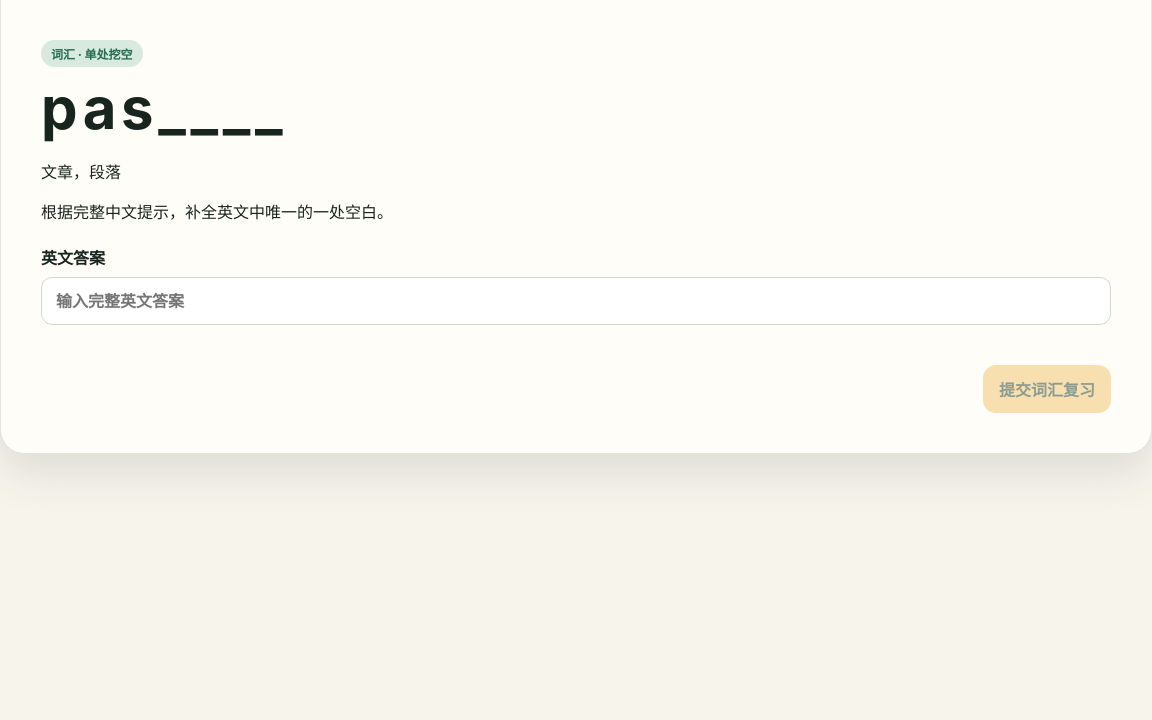
Test: VocabularyRecallExercise › keeps the only requested answer when persistence fails so the learner can retry
This screenshot has width=1152, height=720.
Later steps or results of the test are not shown.
Type "passage" into the field labelled "英文答案" at (576, 301), box [41,277,1111,325]
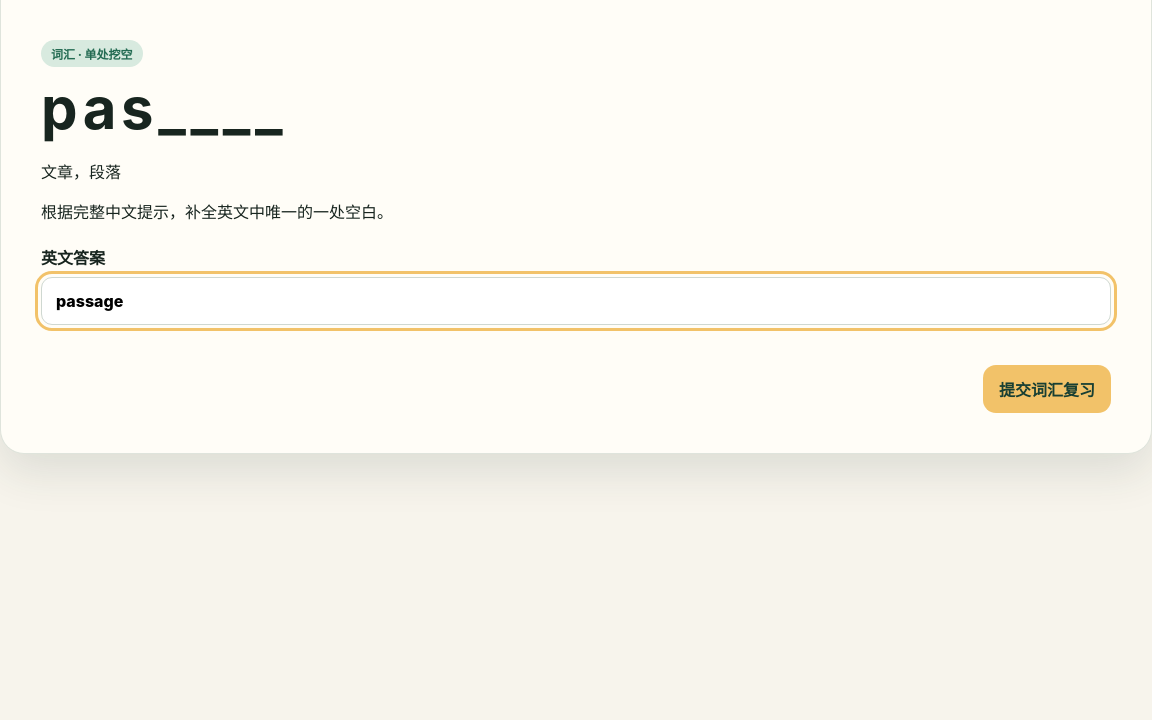
Expected: the text "文章，段落" is shown, [41,162,121,182]
Click the button "提交词汇复习" at (1047, 389), box [983,365,1111,413]
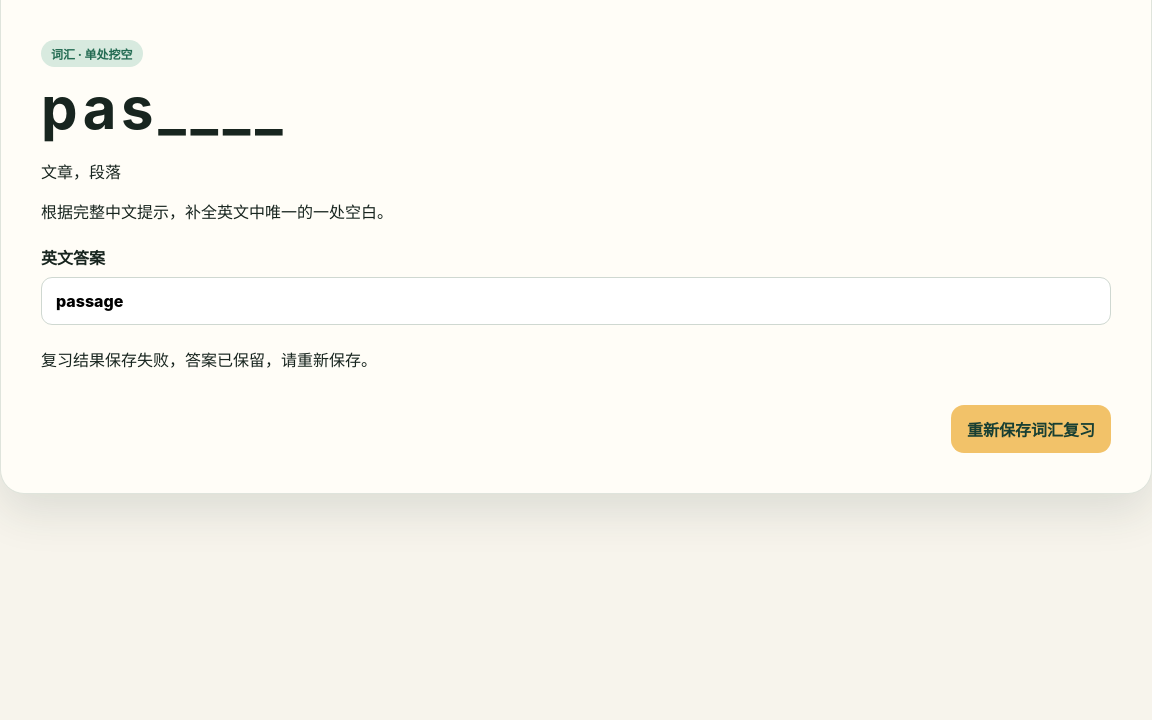
Now the message shows "保存失败", box [41,350,377,370]
